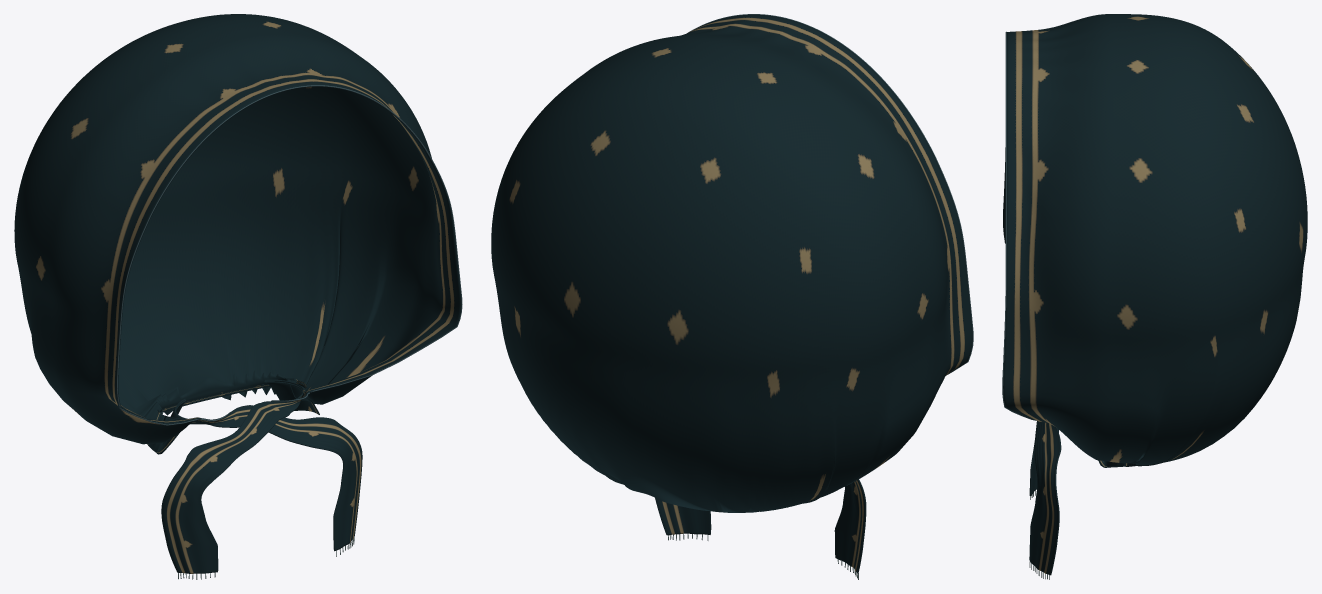
The model's file is Masculine-buzz-jersey-pashmina250-headgear.glb.
3 views of the same model, side by side, from view 1: azimuth 30°, elevation 25°; view 2: azimuth 150°, elevation 25°; view 3: azimuth 270°, elevation 25° (orthographic). The views are drawn at different scales.
Parts seen in each view (by area): view 1: 226 headgear / Headwear / continuous woven pashmina239, 226 headgear / Headwear / face edge239; view 2: 226 headgear / Headwear / continuous woven pashmina239, 226 headgear / Headwear / face edge239; view 3: 226 headgear / Headwear / continuous woven pashmina239, 226 headgear / Headwear / face edge239.
Part boxes in pixels (x1,y1,x2,y2): 226 headgear / Headwear / continuous woven pashmina239: [14, 14, 461, 573]; 226 headgear / Headwear / face edge239: [117, 85, 462, 425]; 226 headgear / Headwear / continuous woven pashmina239: [491, 14, 972, 573]; 226 headgear / Headwear / face edge239: [686, 14, 973, 375]; 226 headgear / Headwear / continuous woven pashmina239: [1003, 14, 1307, 575]; 226 headgear / Headwear / face edge239: [1002, 31, 1035, 420].
Bounding box in the file's own units: 1.07 × 1.37 × 0.7558.
3 materials, 1 textured.
